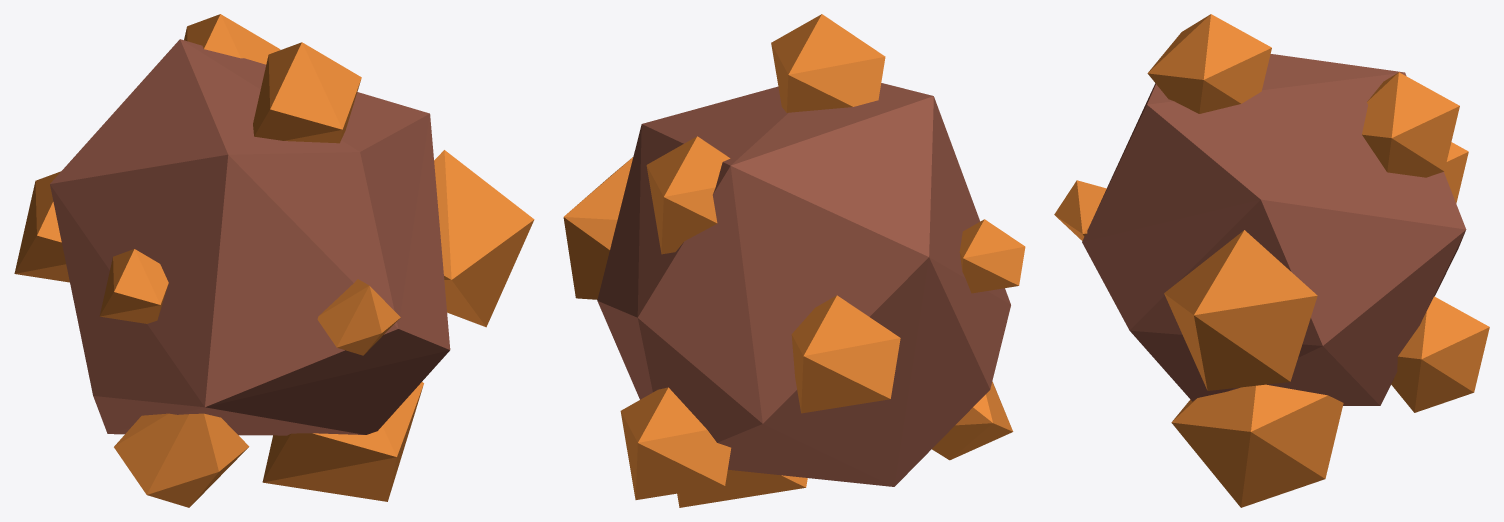
File: Roca_con_incrustaciones.fbx
The picture shows the model from 3 angles, left to right: view 1: azimuth 30°, elevation 25°; view 2: azimuth 150°, elevation 25°; view 3: azimuth 270°, elevation 25°; orthographic projection. The views are drawn at different scales.
Parts seen in each view (by area): view 1: Roca_con_incrustaciones; view 2: Roca_con_incrustaciones; view 3: Roca_con_incrustaciones.
Part boxes in pixels (x1,y1,x2,y2): Roca_con_incrustaciones: (14,14,534,507); Roca_con_incrustaciones: (563,14,1025,507); Roca_con_incrustaciones: (1054,14,1489,507).
Bounding box in the file's own units: 229 × 256 × 225.
